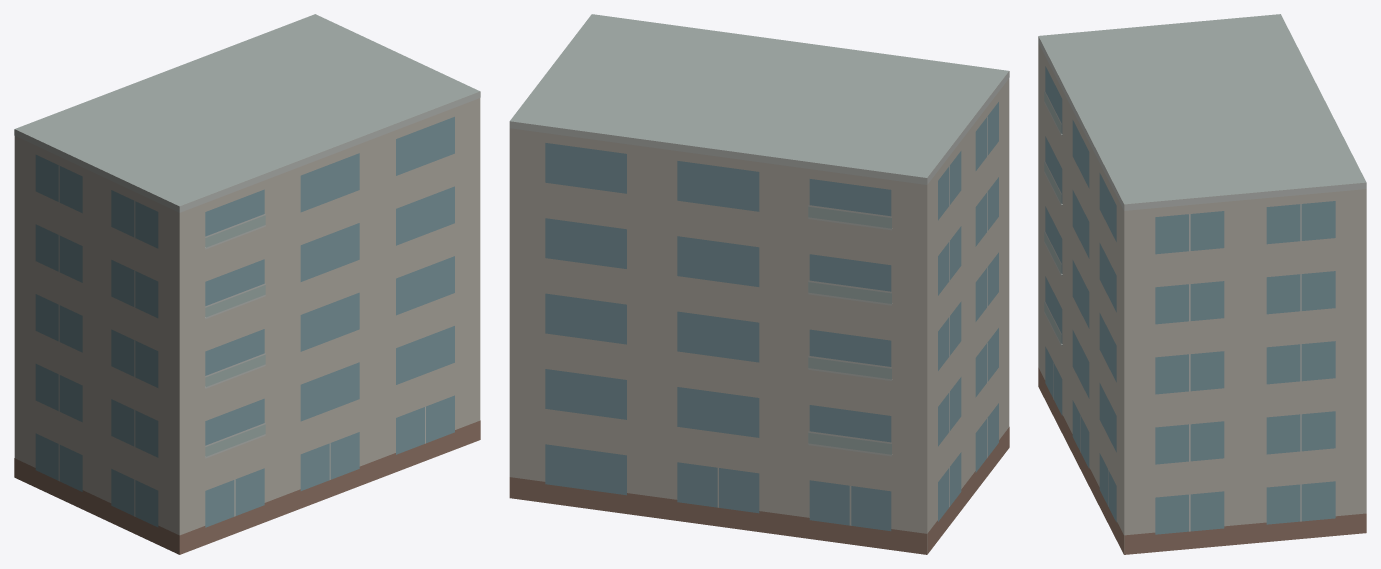
File: survey-upis-33038476.glb
3 views of the same model, side by side, from view 1: azimuth 30°, elevation 25°; view 2: azimuth 150°, elevation 25°; view 3: azimuth 270°, elevation 25° (orthographic). The views are drawn at different scales.
Parts seen in each view (by area): view 1: survey-upis-33038476.tmp; view 2: survey-upis-33038476.tmp; view 3: survey-upis-33038476.tmp.
Boxes of the visible parts, x1=… form: survey-upis-33038476.tmp: x1=14, y1=14, x2=480, y2=554; survey-upis-33038476.tmp: x1=509, y1=14, x2=1009, y2=554; survey-upis-33038476.tmp: x1=1038, y1=14, x2=1366, y2=554.
Size of the model in its own units: 15.39 by 13.2 by 11.22.
